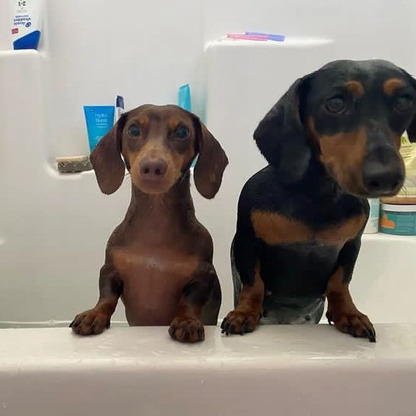dachshund: (243, 32, 404, 351), (63, 91, 230, 363)
